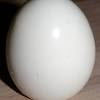egg: (5, 1, 99, 100)
